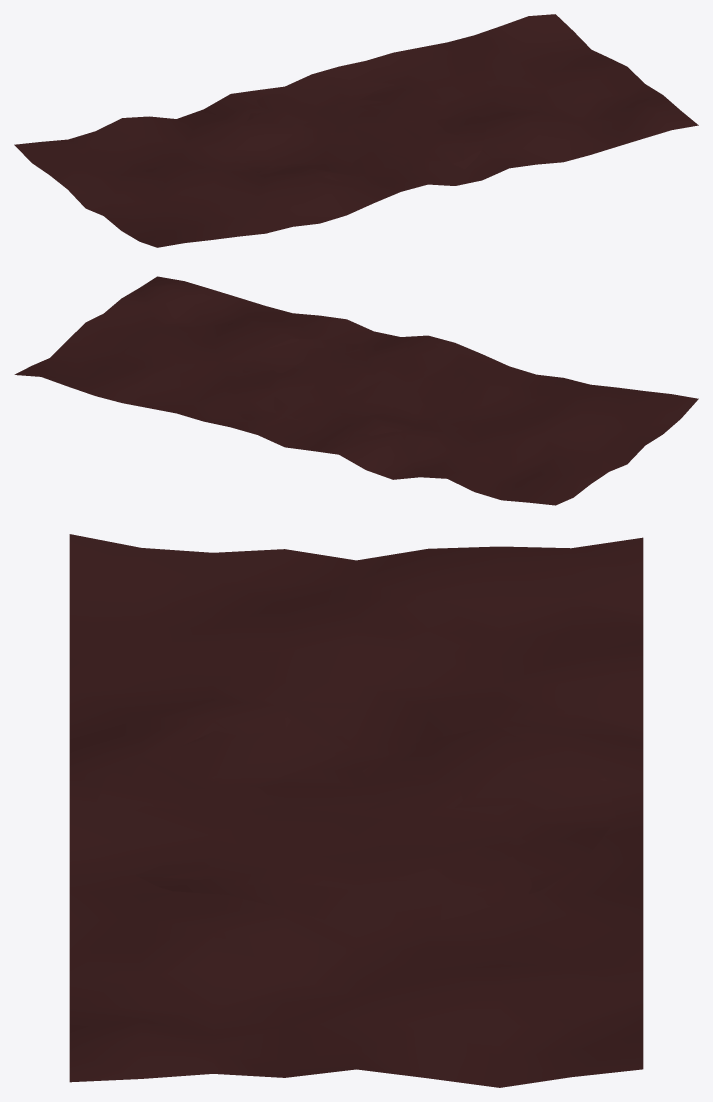
File: Soil_2.FBX
3 views of the same model, one above another, from view 1: azimuth 30°, elevation 25°; view 2: azimuth 150°, elevation 25°; view 3: azimuth 270°, elevation 25° (orthographic). The views are drawn at different scales.
Parts seen in each view (by area): view 1: Soil_Rectangle, Soil_Circle; view 2: Soil_Rectangle, Soil_Circle; view 3: Soil_Rectangle, Soil_Circle.
Part boxes in pixels (bbox=[...]): Soil_Rectangle: bbox=[14, 14, 698, 247]; Soil_Circle: bbox=[239, 78, 485, 187]; Soil_Rectangle: bbox=[14, 276, 698, 505]; Soil_Circle: bbox=[227, 338, 477, 444]; Soil_Rectangle: bbox=[69, 534, 643, 1087]; Soil_Circle: bbox=[97, 708, 615, 928].
Size of the model in its own units: 90.04 by 2.8 by 41.27.
